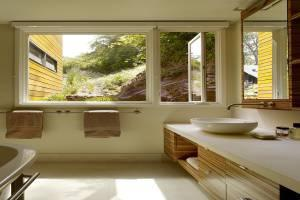window: (13, 22, 222, 105)
